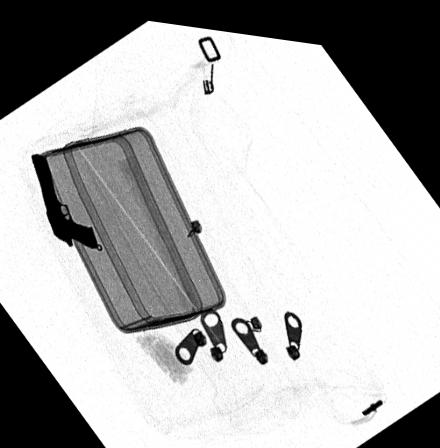Gun: (30, 153, 97, 246)
